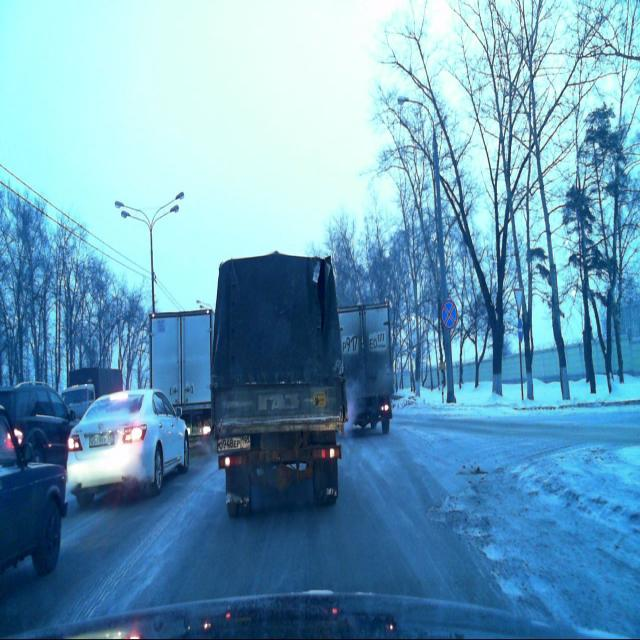road sign: (514, 288, 523, 314)
